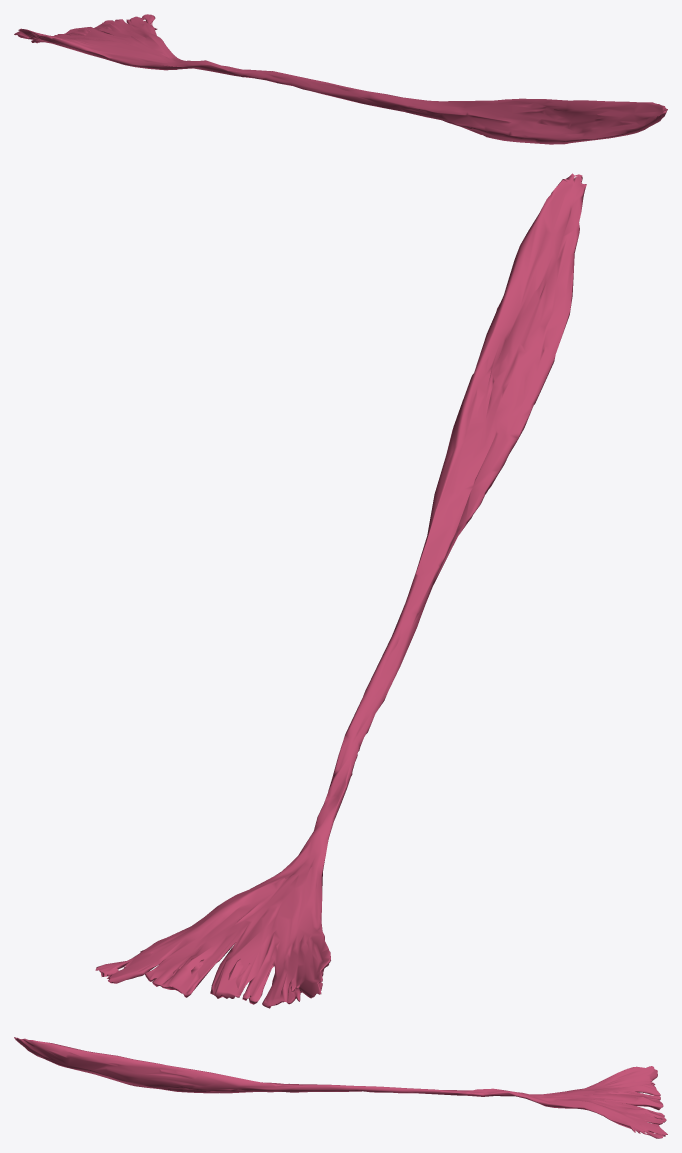
3 views of the same model, one above another, from view 1: azimuth 30°, elevation 25°; view 2: azimuth 150°, elevation 25°; view 3: azimuth 270°, elevation 25° (orthographic). The views are drawn at different scales.
Visible parts, largest first — view 1: 右侧掌长肌; view 2: 右侧掌长肌; view 3: 右侧掌长肌.
Boxes of the visible parts, x1,y1,x2,y2 form: 右侧掌长肌: [14, 14, 667, 144]; 右侧掌长肌: [95, 173, 586, 1008]; 右侧掌长肌: [14, 1037, 667, 1138].
Bounding box in the file's own units: 0.1697 × 0.1187 × 0.4882.
